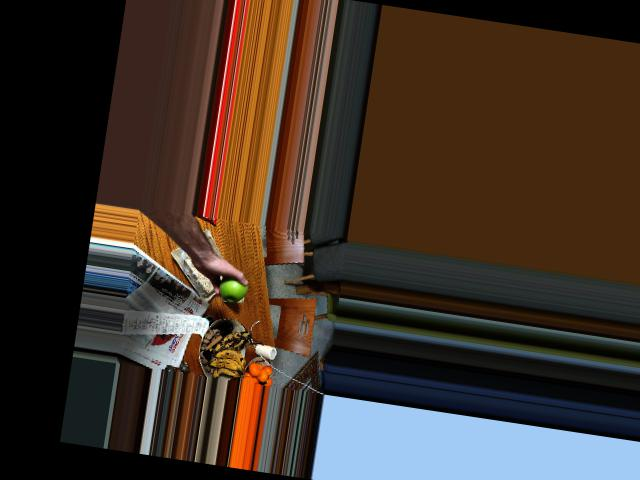apple: (214, 269, 252, 305)
